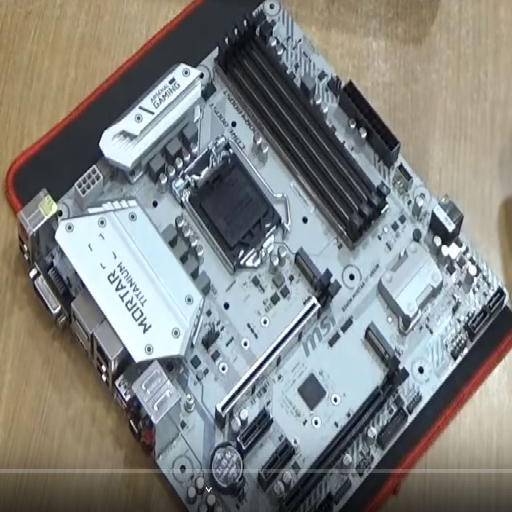CPU: (177, 144, 280, 268)
GPU: (209, 271, 340, 421), (277, 358, 410, 504)
MOTHERBOARD: (24, 4, 506, 507)
RAM: (214, 16, 390, 243)
SSD: (362, 318, 395, 364), (292, 245, 322, 283)
